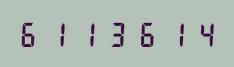four: (185, 20, 212, 47)
one: (45, 20, 72, 47), (73, 20, 100, 47), (157, 20, 184, 47)
six: (17, 20, 44, 47), (129, 20, 156, 47)
three: (101, 20, 128, 47)
